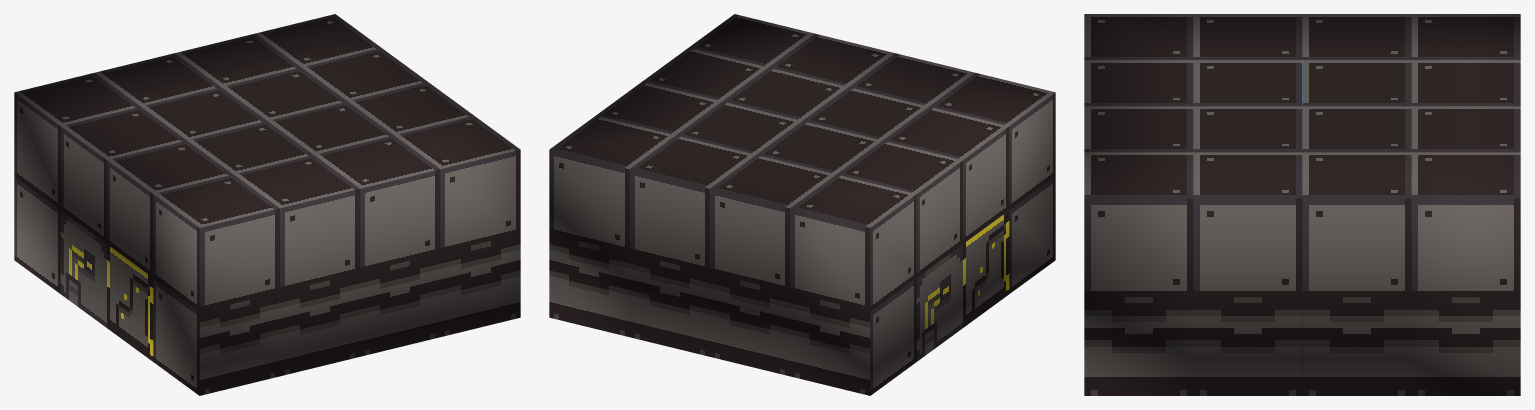
The model's file is room.fbx.
3 views of the same model, side by side, from view 1: azimuth 30°, elevation 25°; view 2: azimuth 150°, elevation 25°; view 3: azimuth 270°, elevation 25° (orthographic). The views are drawn at different scales.
Parts seen in each view (by area): view 1: Default-0; view 2: Default-0; view 3: Default-0.
Boxes of the visible parts, left/top/right/bottom form: Default-0: left=14, top=14, right=520, bottom=395; Default-0: left=549, top=14, right=1055, bottom=395; Default-0: left=1084, top=14, right=1520, bottom=395.
Size of the model in its own units: 4 by 2 by 4.
Materials: 1 (1 with a texture image).
